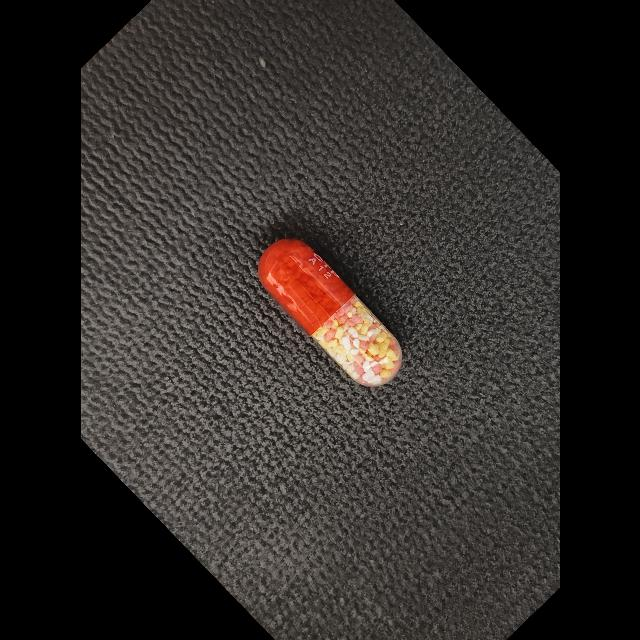Intact Capsule: (257, 239, 402, 386)
